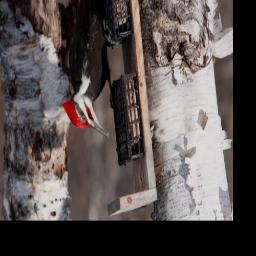Woodpecker: (59, 0, 120, 138)
